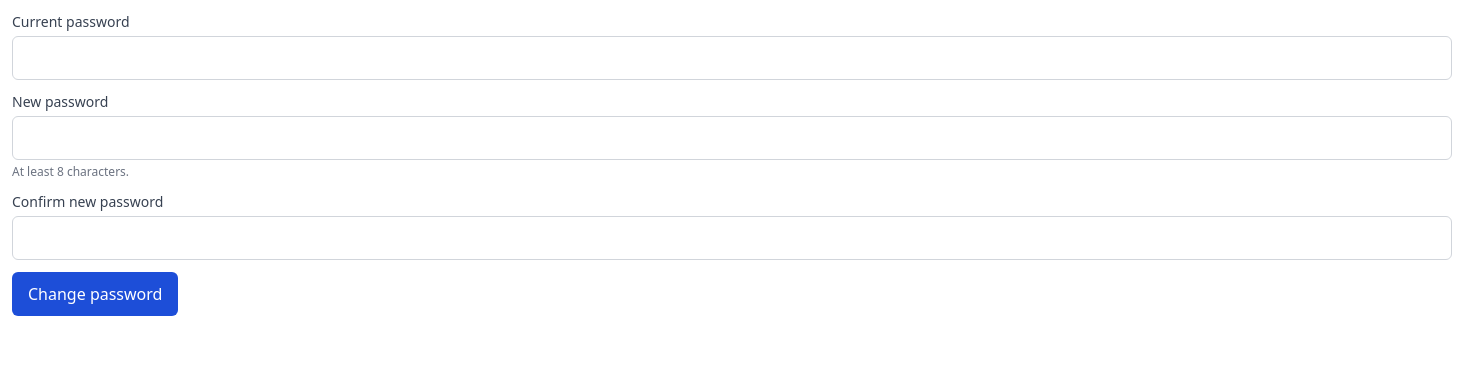
Test: ChangePasswordForm › sends nothing when the form is invalid (oldpass1, newpass123, different1)
Type "oldpass1" into the password field labelled "Current password" at (732, 58), box [12,36,1452,80]
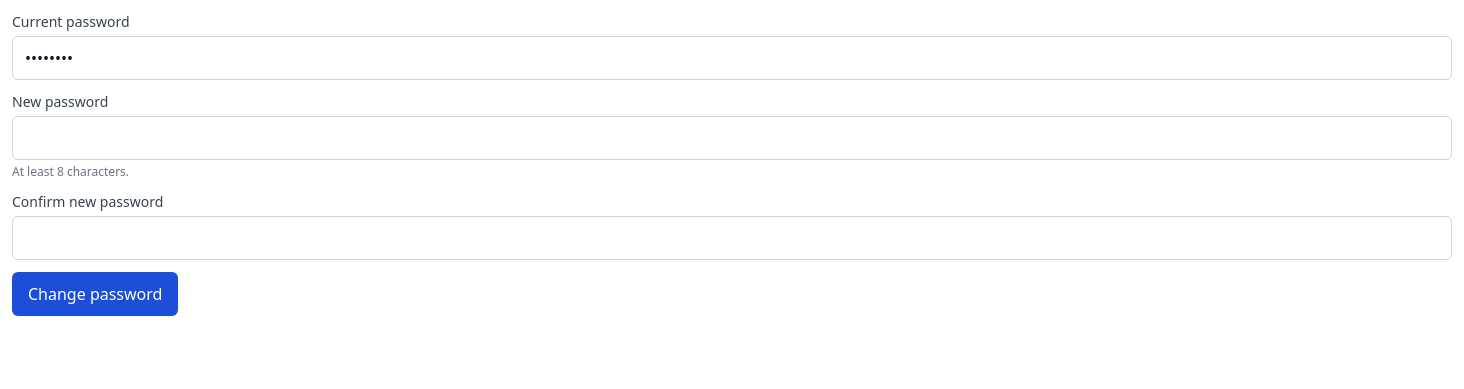
Type "newpass123" into the password field labelled "New password" at (732, 138), box [12,116,1452,160]
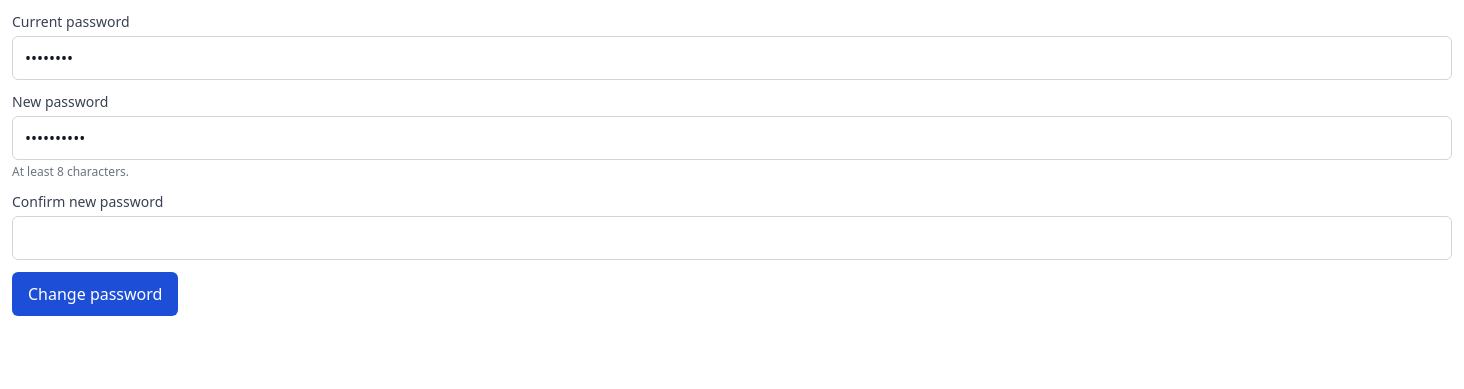
Type "different1" into the password field labelled "Confirm new password" at (732, 238), box [12,216,1452,260]
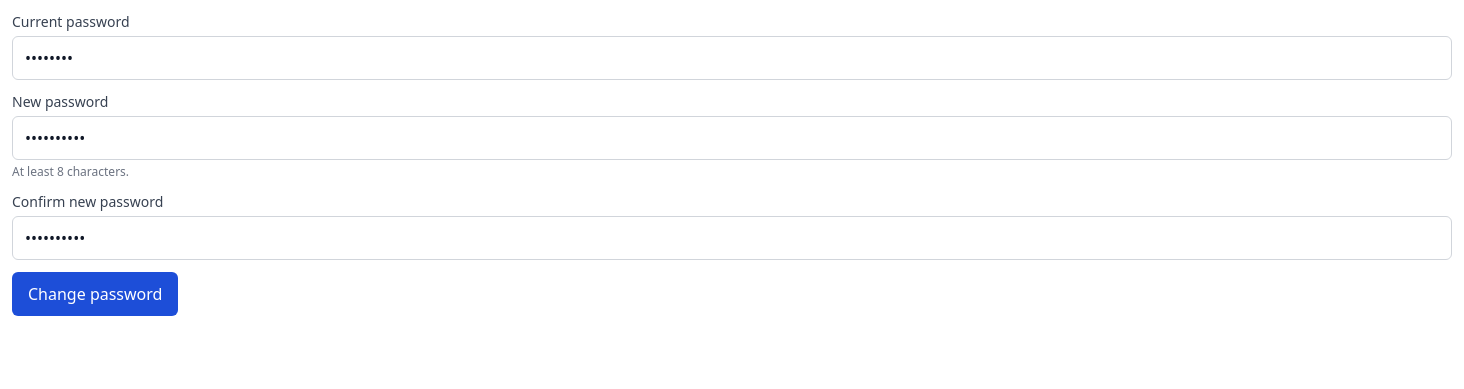
Click the button "Change password" at (95, 294), box [12,272,178,316]
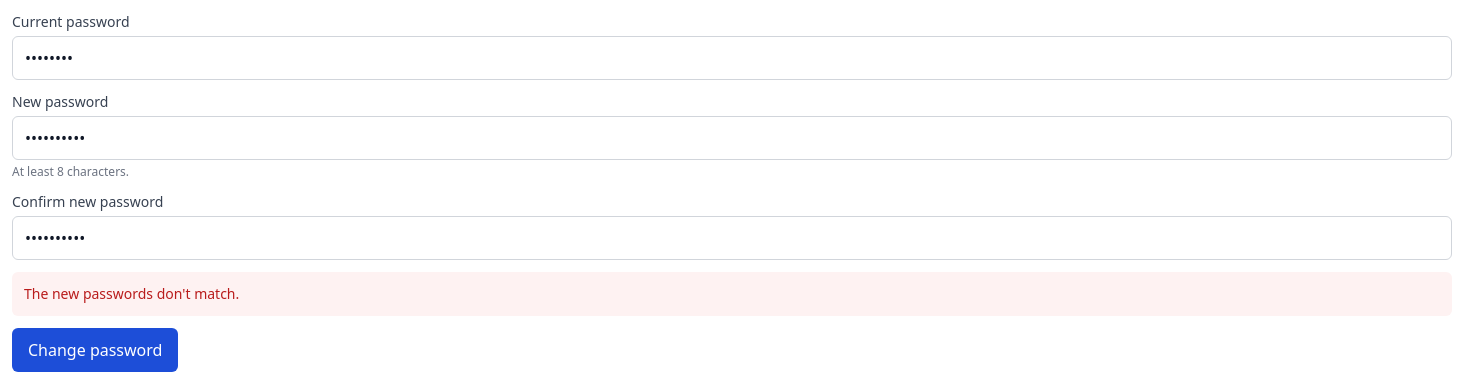
Check: the message "The new passwords don't match." is shown, box [12,272,1452,316]
